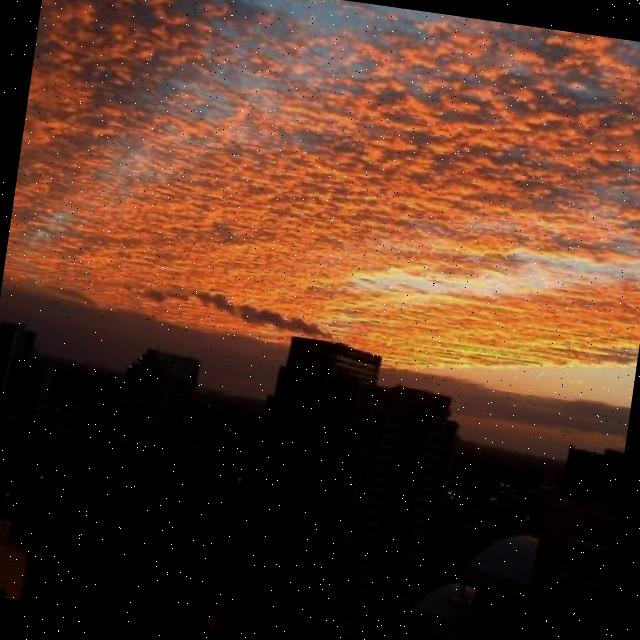Ac: (1, 1, 640, 388)
